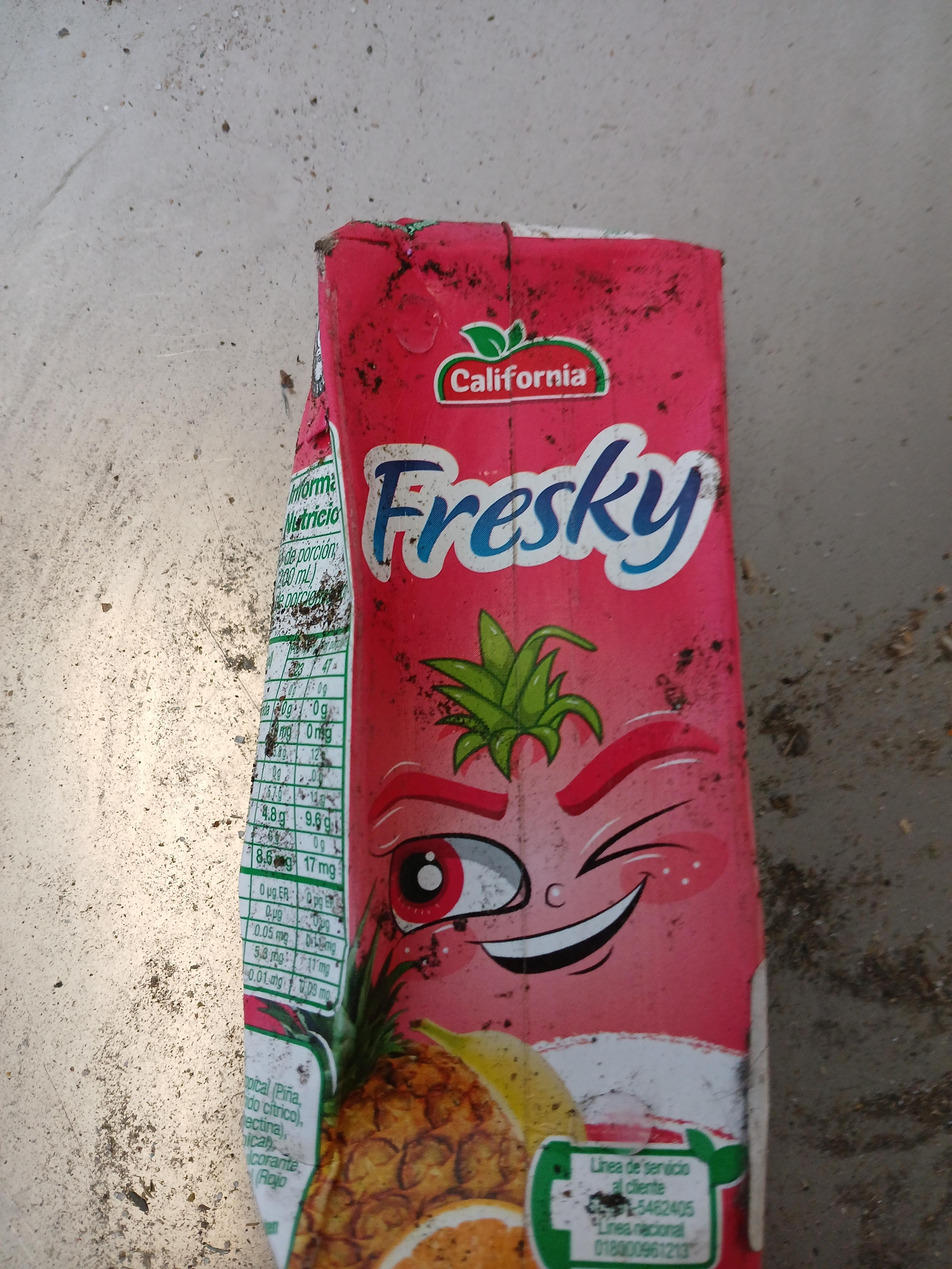Carton: (239, 219, 768, 1269)
